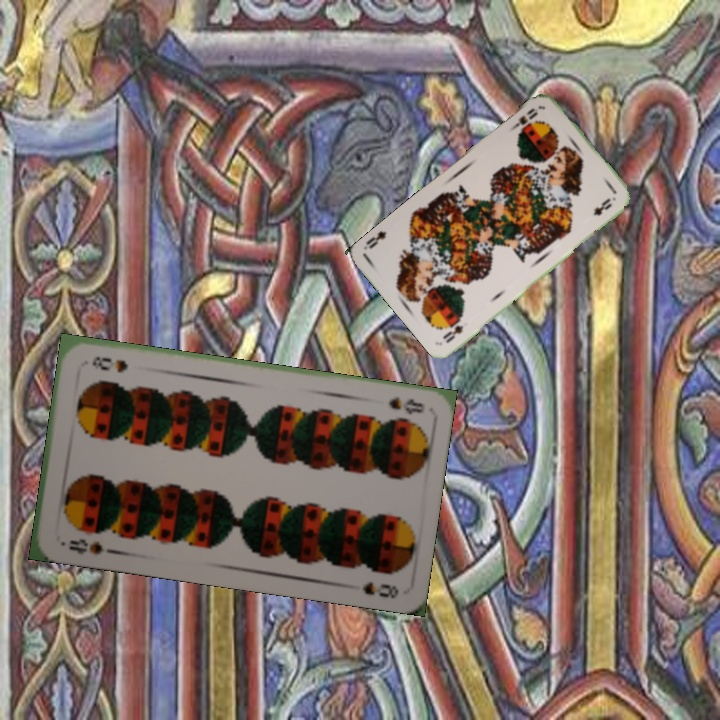S8: (65, 535, 114, 557), (384, 393, 427, 417)
SO: (507, 104, 541, 137), (438, 321, 466, 346)
